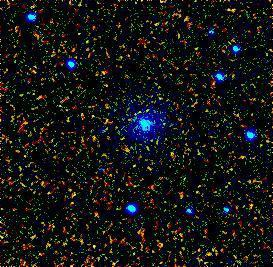star: (88, 56, 118, 86)
